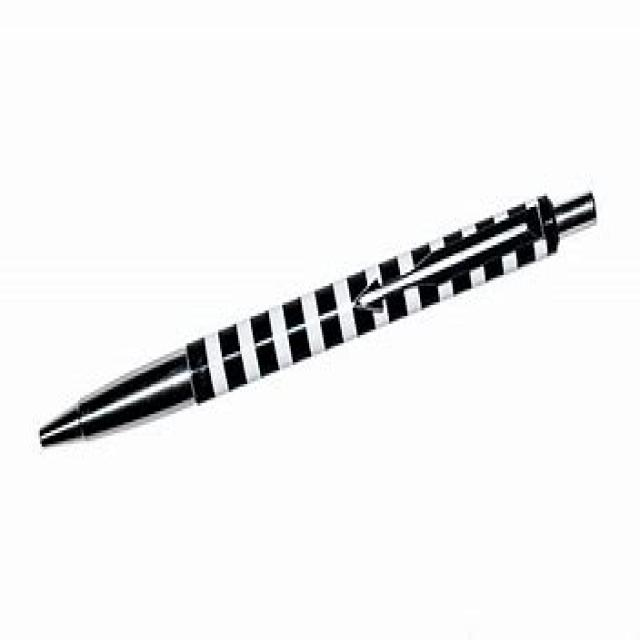pen: (38, 184, 598, 449)
